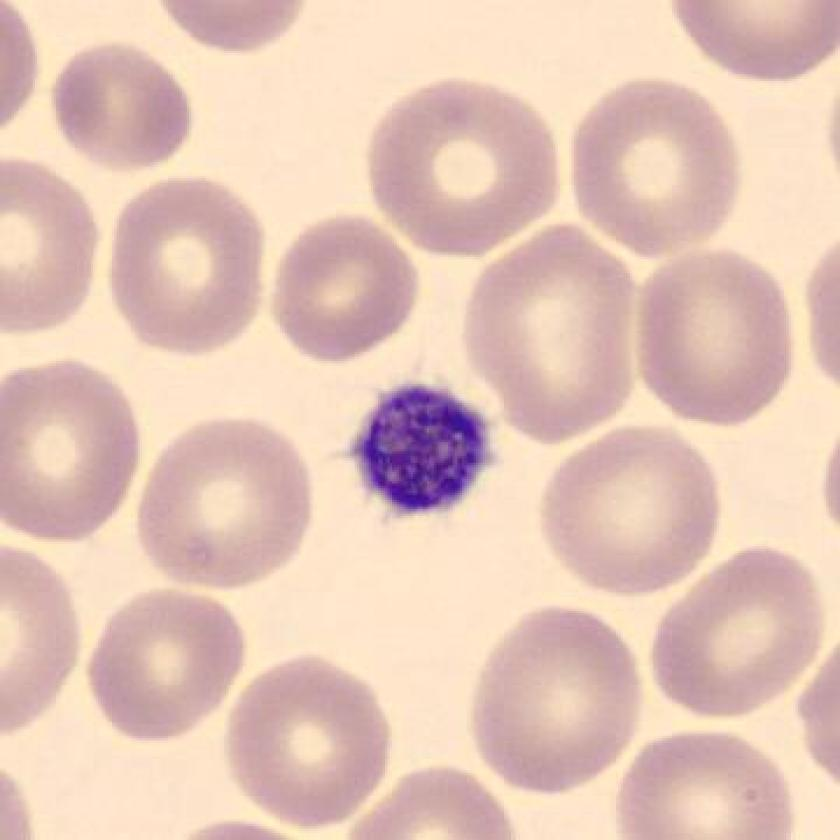platelets: (349, 373, 503, 531)
